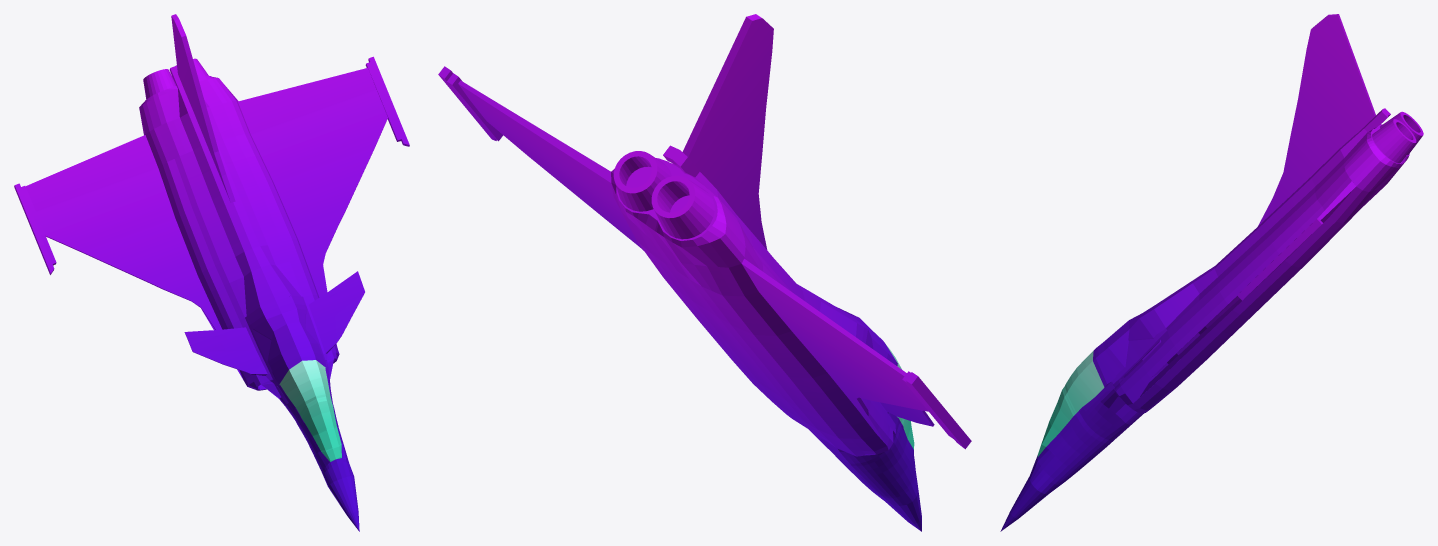
Rendered from AnimsWithDeath.fbx.
3 renders of one model, left to right at view 1: azimuth 30°, elevation 25°; view 2: azimuth 150°, elevation 25°; view 3: azimuth 270°, elevation 25°, orthographic. The views are drawn at different scales.
Visible parts, largest first — view 1: Plane; view 2: Plane; view 3: Plane.
Boxes of the visible parts, x1,y1,x2,y2 form: Plane: (14, 14, 409, 531); Plane: (438, 14, 971, 531); Plane: (1000, 14, 1423, 531).
Bounding box in the file's own units: 89.32 × 111 × 86.23.
1 material, 1 textured.
